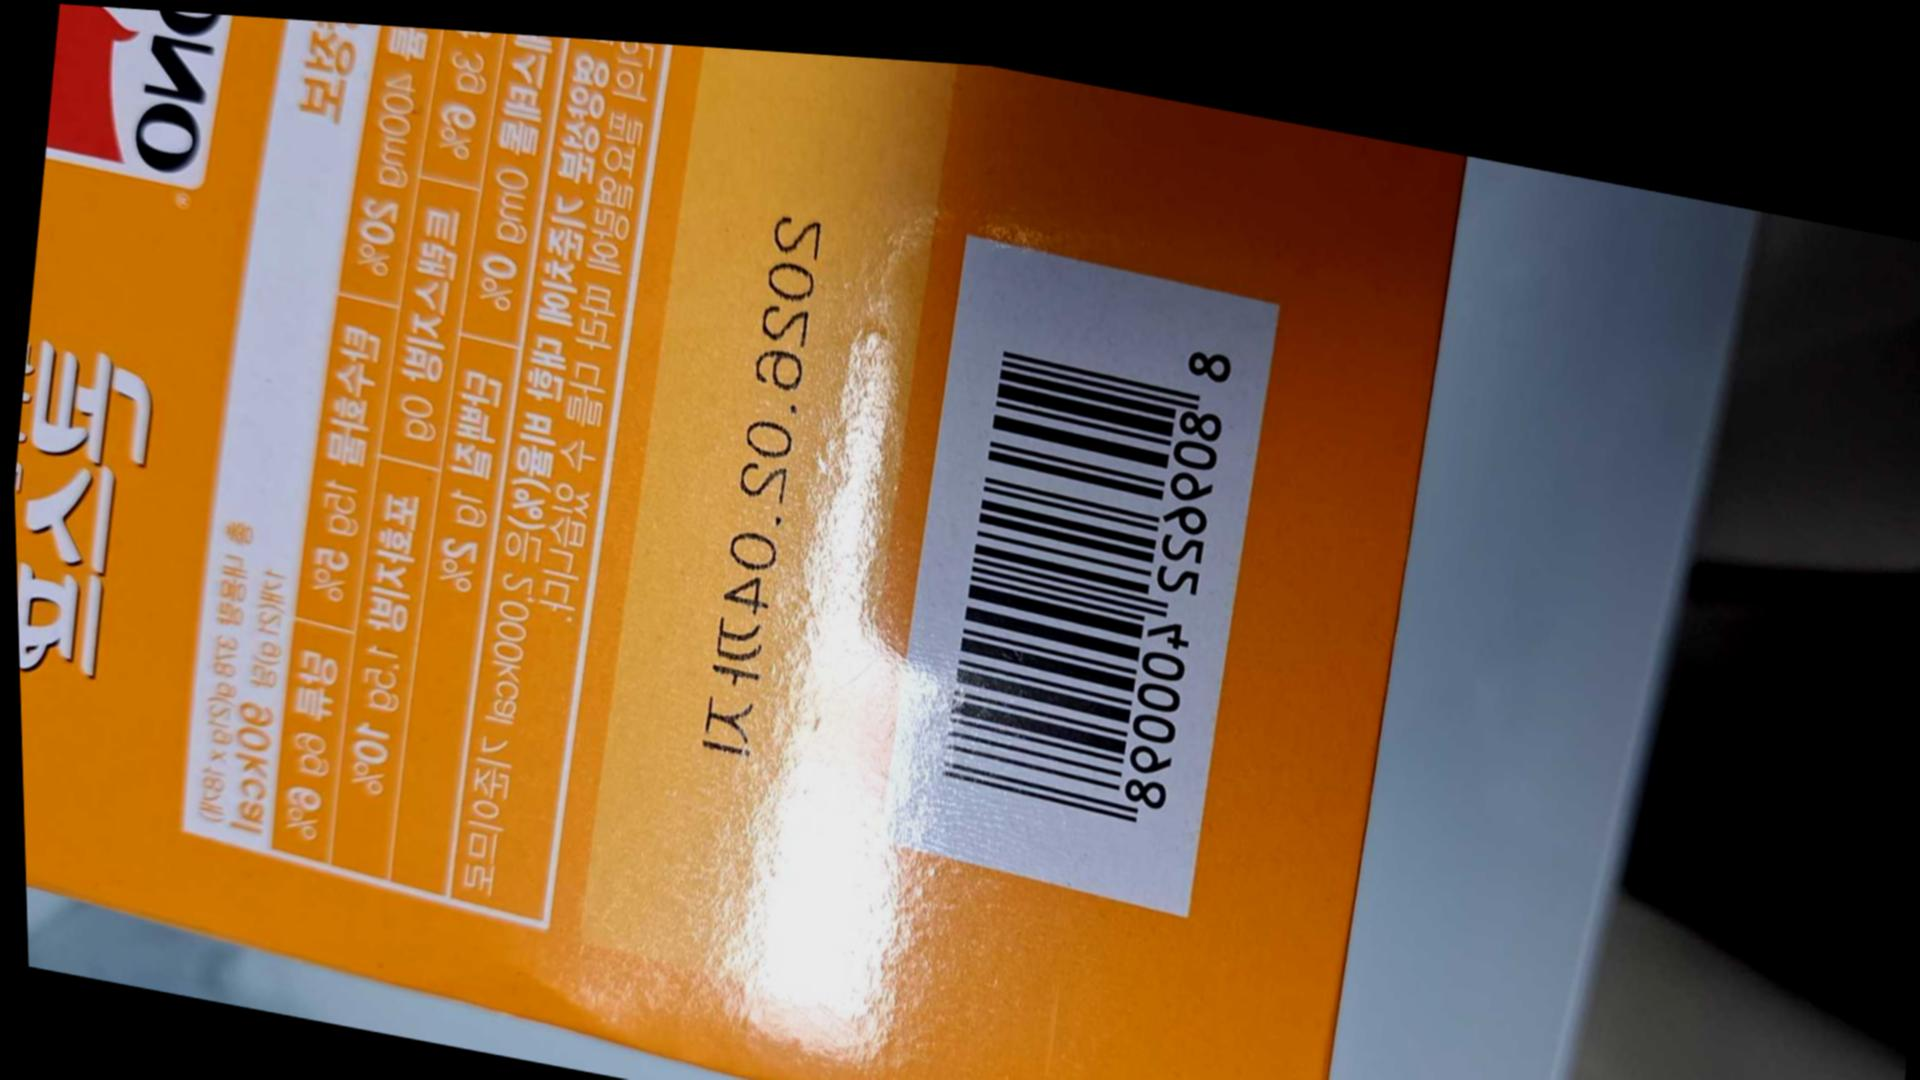cola-2000-2025-7-8: (910, 262, 1247, 841)
